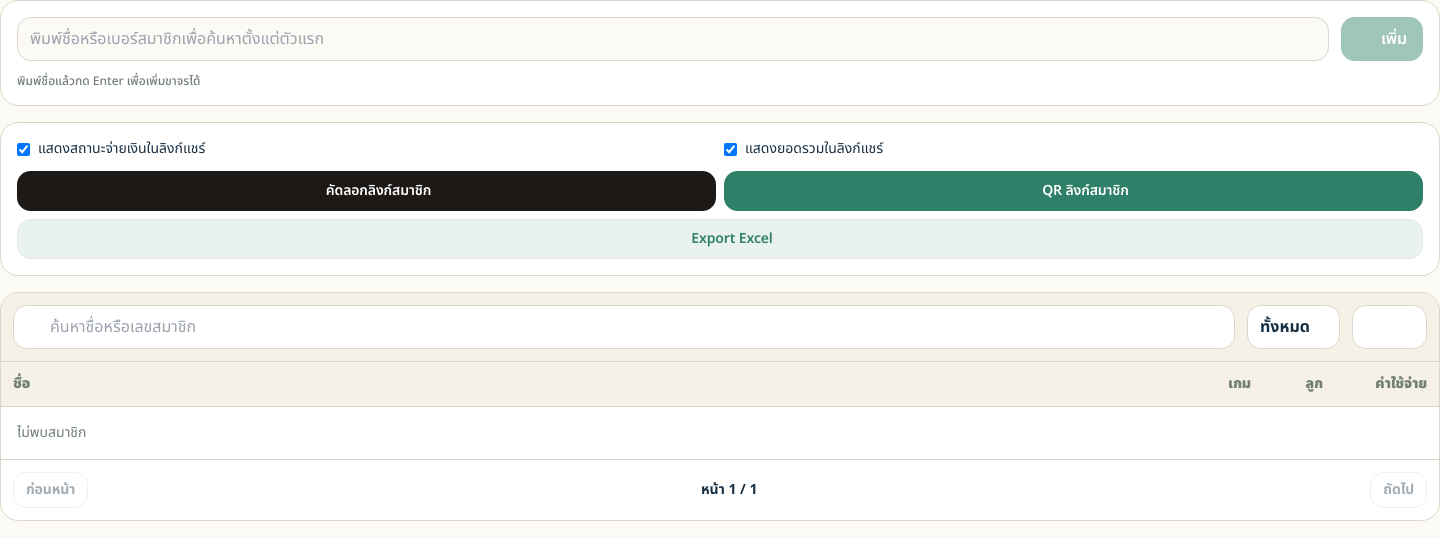
Test: PlayersPage member combobox › ignores a stale member-search response
The image size is (1440, 538).
Type "สม" into the dropdown named "ชื่อขาจรหรือค้นหาสมาชิกด้วยชื่อหรือเบอร์โทร".
click(673, 39); type("สม")  # box [17,17,1329,61]
Wait 700 ms
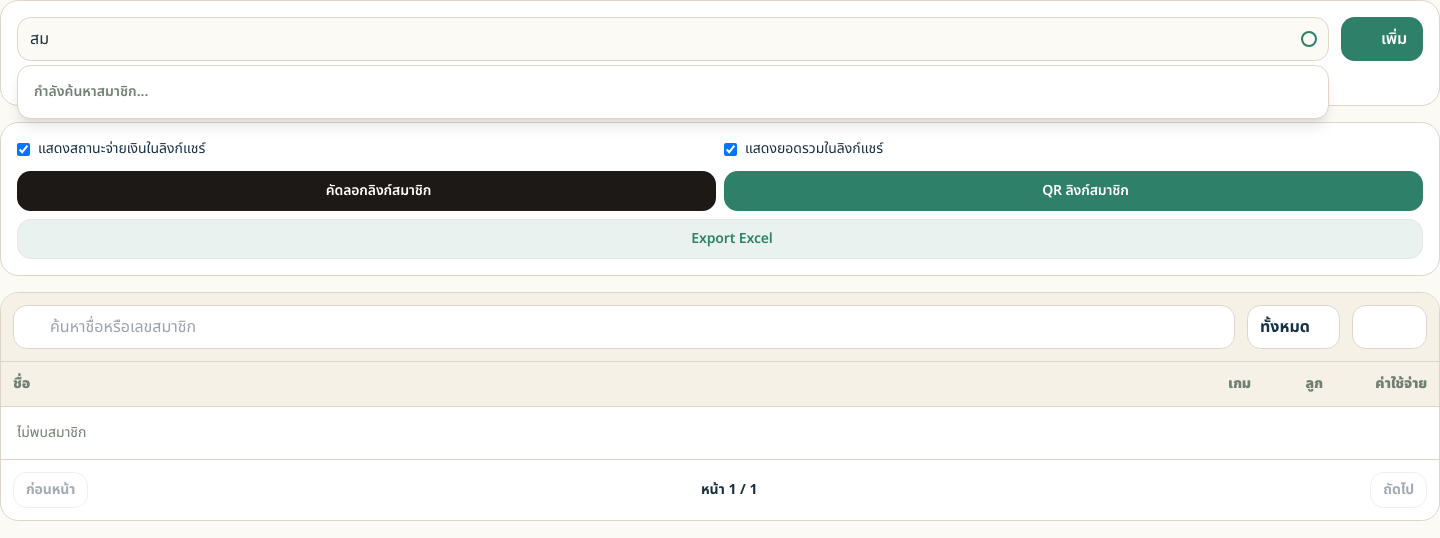
Replace the text in the dropdown named "ชื่อขาจรหรือค้นหาสมาชิกด้วยชื่อหรือเบอร์โทร" with "สมศรี" at coordinates (673, 39), box [17,17,1329,61]
Wait 700 ms
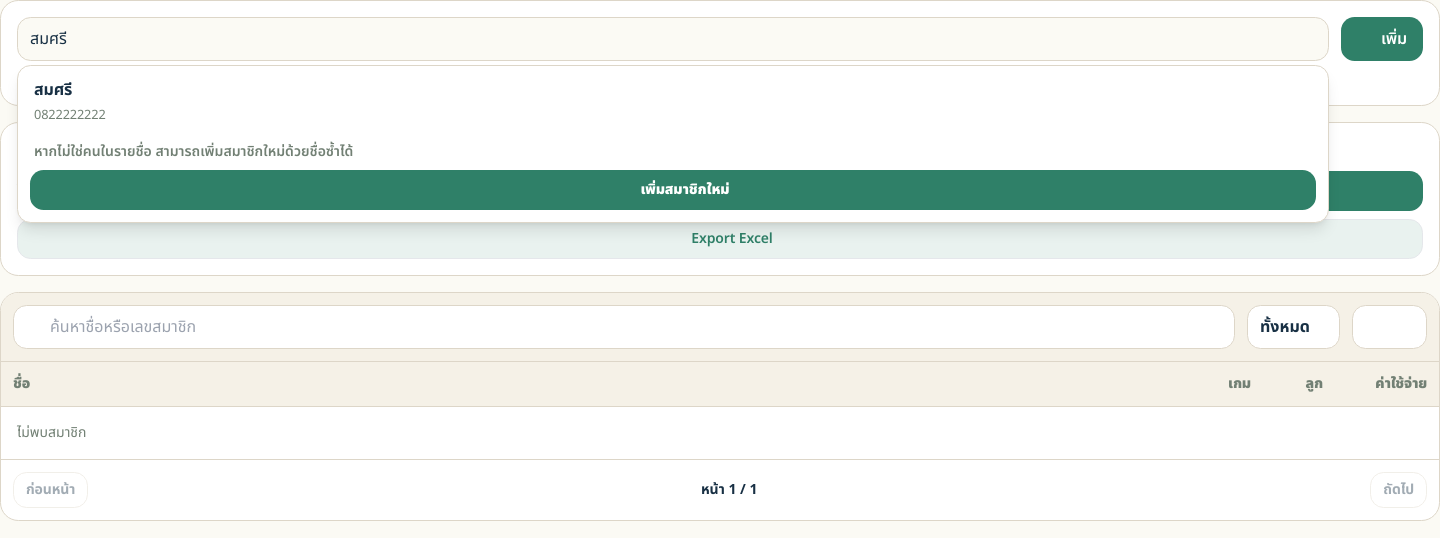
Result: the text "สมศรี" is shown at [34,78,72,102]
